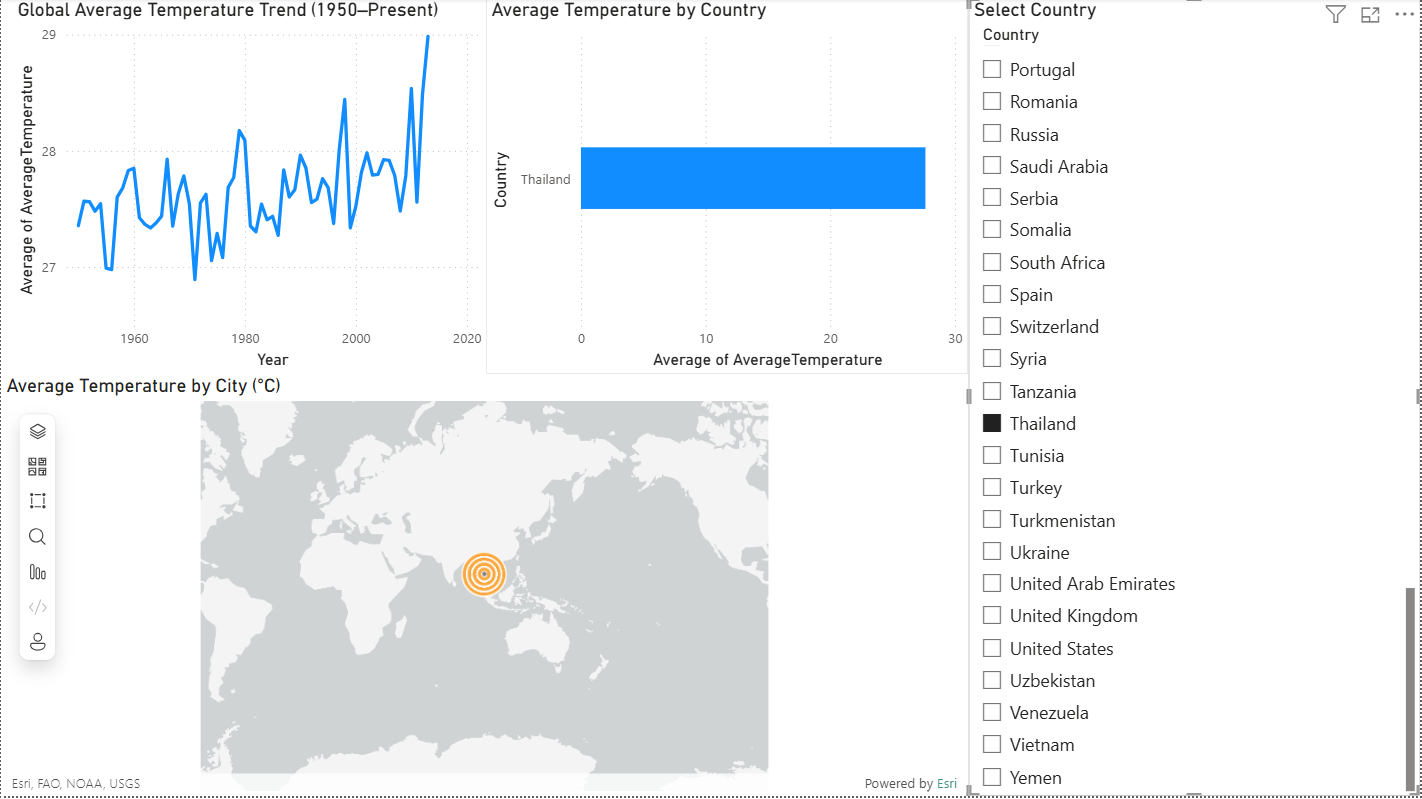

Layout of this report page (visuals, bound fields, positions):
{"tool":"powerbi","page":{"name":"Page 1","canvas":[1280,720],"ordinal":0},"visuals":[{"type":"lineChart","title":"Global Average Temperature Trend (1950–Present)","fields":{"Category":["cleaned_climate_data_1950.Year"],"Y":["Avg(cleaned_climate_data_1950.AverageTemperature)"]},"box":[9.6,0,428.1,338.9],"z":0},{"type":"barChart","title":"Average Temperature by Country","fields":{"Category":["cleaned_climate_data_1950.Country"],"Y":["Avg(cleaned_climate_data_1950.AverageTemperature)"]},"box":[437.7,0,435,338.9],"z":1000},{"type":"esriVisual","title":"Average Temperature by City (°C)","fields":{"Latitude":["cleaned_climate_data_1950.Latitude"],"Longitude":["cleaned_climate_data_1950.Longitude"],"Location":["cleaned_climate_data_1950.City"],"Size":["Avg(cleaned_climate_data_1950.AverageTemperature)"],"Time":["cleaned_climate_data_1950.Year"]},"box":[0,338.9,872.7,381.5],"z":1001},{"type":"slicer","title":"Select Country","fields":{"Values":["cleaned_climate_data_1950.Country"]},"box":[872.7,0,407.5,720.4],"z":1002}]}

Visuals, with their boxes in screenshot pixels (x1, y1, x2, y2), scaled from the page's 1280x720 canvas onto the 1422x799 screenshot:
"Global Average Temperature Trend (1950–Present)" lineChart: x1=11 y1=0 x2=486 y2=376
"Average Temperature by Country" barChart: x1=486 y1=0 x2=970 y2=376
"Average Temperature by City (°C)" esriVisual: x1=0 y1=376 x2=970 y2=798
"Select Country" slicer: x1=970 y1=0 x2=1421 y2=798
